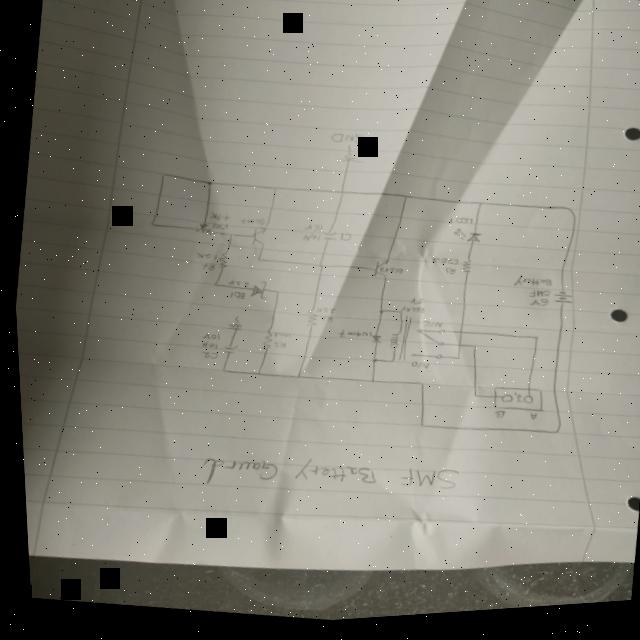capacitor: (216, 345, 234, 358), (318, 233, 335, 246)
crossover: (453, 335, 460, 342), (452, 348, 459, 354)
diode: (448, 233, 480, 253), (241, 283, 266, 304), (366, 339, 378, 349)
ground: (335, 146, 365, 169), (221, 317, 241, 334)
junction: (560, 211, 574, 224), (145, 221, 155, 229), (156, 173, 166, 181), (373, 312, 382, 320), (547, 435, 556, 443), (224, 234, 233, 242), (412, 427, 422, 434), (202, 182, 211, 189), (527, 341, 536, 348), (268, 188, 277, 195), (473, 206, 482, 213), (335, 193, 344, 200), (366, 362, 375, 368), (313, 267, 322, 273), (270, 293, 278, 299), (399, 199, 407, 205), (209, 284, 216, 290), (413, 386, 420, 392), (467, 399, 475, 404), (365, 382, 371, 388), (216, 370, 223, 375), (290, 378, 297, 383), (467, 350, 473, 355), (253, 261, 259, 266), (251, 374, 257, 379), (451, 361, 456, 366)
resistor: (255, 332, 272, 355), (189, 223, 211, 240), (213, 253, 228, 273), (301, 314, 316, 332), (456, 263, 470, 282)
source: (547, 295, 571, 313)
terminal: (496, 399, 509, 410), (517, 401, 529, 411)
text: (172, 433, 461, 515), (508, 278, 550, 297), (328, 134, 364, 151), (333, 330, 368, 347), (424, 260, 458, 273), (234, 218, 264, 231), (445, 220, 471, 233), (378, 269, 404, 282), (396, 308, 421, 320), (191, 252, 215, 264), (524, 294, 548, 306), (405, 364, 427, 377), (417, 324, 440, 336), (209, 213, 230, 226), (196, 333, 217, 345), (224, 293, 245, 305), (524, 303, 545, 315), (223, 281, 248, 291), (206, 225, 228, 236), (195, 352, 215, 364), (300, 225, 321, 236), (310, 309, 332, 319), (268, 333, 289, 343), (299, 236, 317, 247), (195, 264, 213, 275), (335, 234, 349, 247), (197, 342, 214, 352), (406, 301, 422, 311), (507, 397, 519, 410), (314, 318, 329, 327), (440, 271, 453, 281), (268, 343, 282, 352), (488, 416, 501, 425), (522, 418, 532, 428)
transistor: (368, 261, 388, 284), (247, 228, 265, 249)
